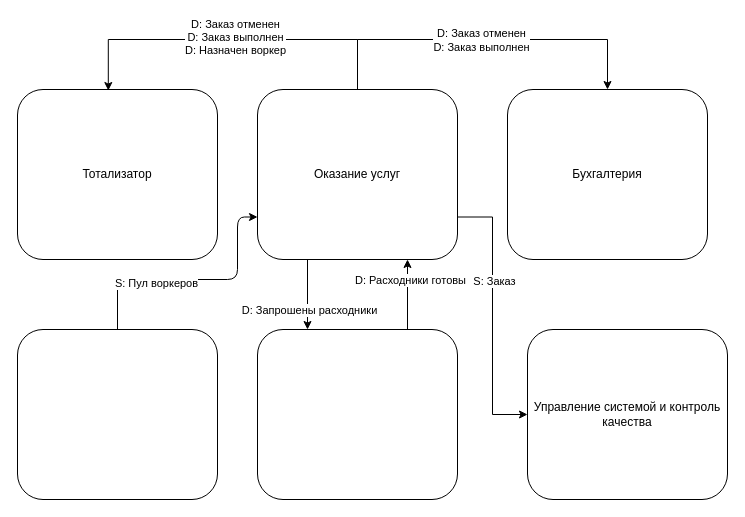
The diagram is 745 pixels wide and 517 high, and some of its shapes have lost their labels. Each missing label, with the centre of its shape:
"Онбординг воркера" belongs at pixel 117 414.
"Расходники" belongs at pixel 357 414.
